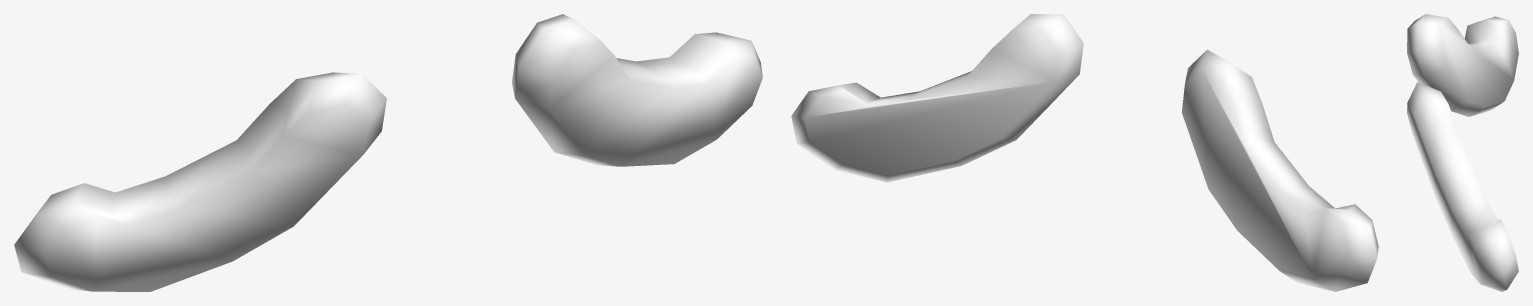
Rendered from eyebrows_03.fbx.
3 views of the same model, side by side, from view 1: azimuth 30°, elevation 25°; view 2: azimuth 150°, elevation 25°; view 3: azimuth 270°, elevation 25° (orthographic). The views are drawn at different scales.
Visible parts, largest first — view 1: Eyebrows_03; view 2: Eyebrows_03; view 3: Eyebrows_03.
Boxes of the visible parts, x1,y1,x2,y2 form: Eyebrows_03: (14, 14, 762, 291); Eyebrows_03: (791, 14, 1378, 291); Eyebrows_03: (1407, 14, 1518, 291).
Size of the model in its own units: 97.29 by 26.77 by 19.11.
